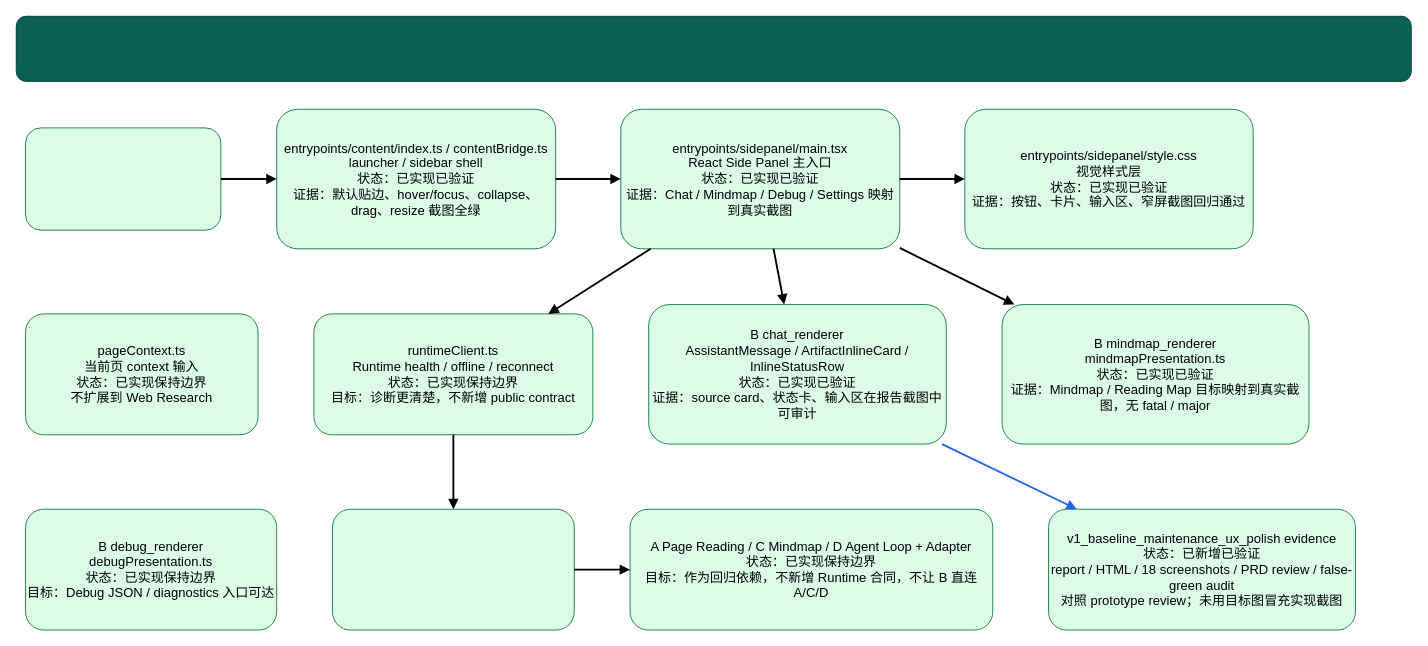
Image size: 1428x646. Some labels were removed from this diagram. The shapes that lost their labels are listed below. From the top down, each one's centre as x and y in pixels, then its label:
At pixel 713 48: "当前架构与 BM / UX 目标架构差异 具体代码实体 + 状态 + 交互关系".
At pixel 123 178: "Host Page DOM 当前网页 / selection / metadata 状态：已实现保持边界".
At pixel 453 569: "Local Runtime app.py /v1/health 与既有 routes 状态：已实现保持边界".
